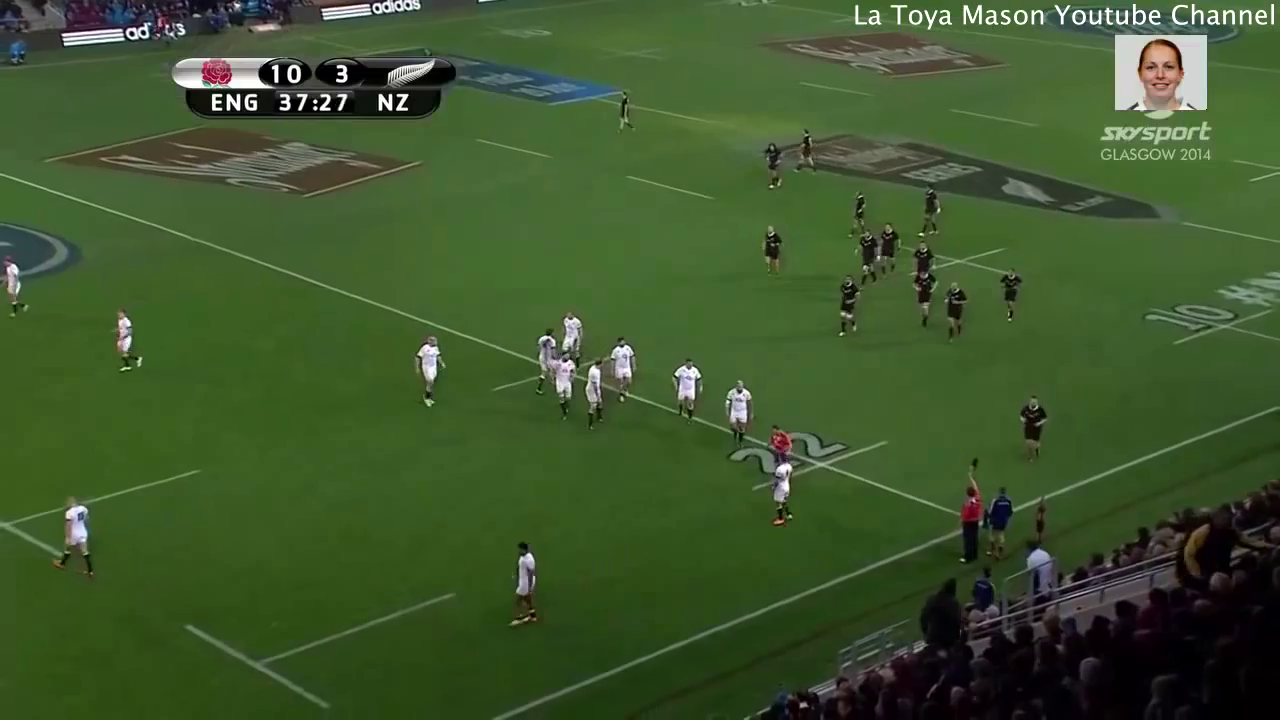10_metre: (1143, 296, 1280, 354), (908, 242, 1031, 281), (593, 38, 673, 68), (472, 18, 562, 41)
player: (497, 532, 553, 640), (45, 480, 99, 586), (405, 328, 457, 417), (663, 348, 713, 437), (1005, 383, 1057, 466), (714, 368, 762, 457), (903, 258, 950, 347), (102, 300, 148, 386), (544, 296, 592, 376), (764, 448, 809, 529), (577, 342, 615, 437), (824, 264, 869, 341), (527, 319, 565, 402), (602, 327, 639, 412), (938, 274, 976, 352), (996, 261, 1037, 333), (546, 344, 580, 430), (754, 136, 797, 196), (913, 183, 952, 244), (873, 212, 905, 284), (850, 224, 882, 295), (753, 218, 790, 276), (1, 257, 33, 321), (841, 180, 877, 236), (755, 416, 796, 465), (787, 120, 821, 178), (609, 81, 637, 138), (909, 234, 939, 272)
